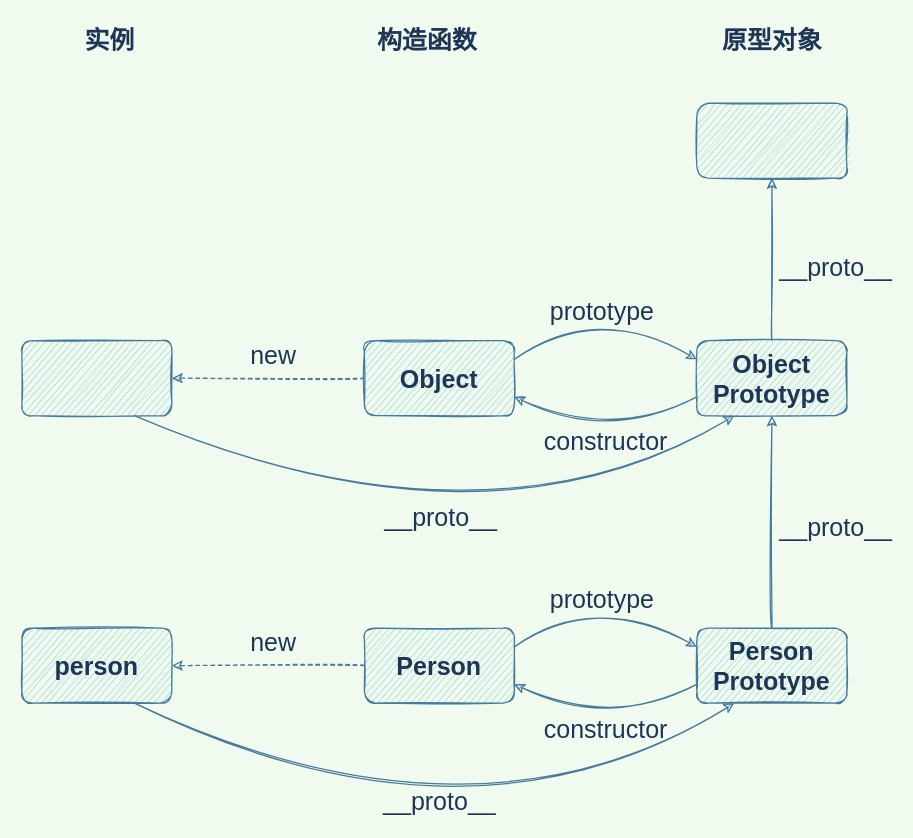
This 913x838 diagram has some shape labels left out. Each missing label, with the centre of its shape:
"null" belongs at point 771,140.
"obj" belongs at point 96,377.
